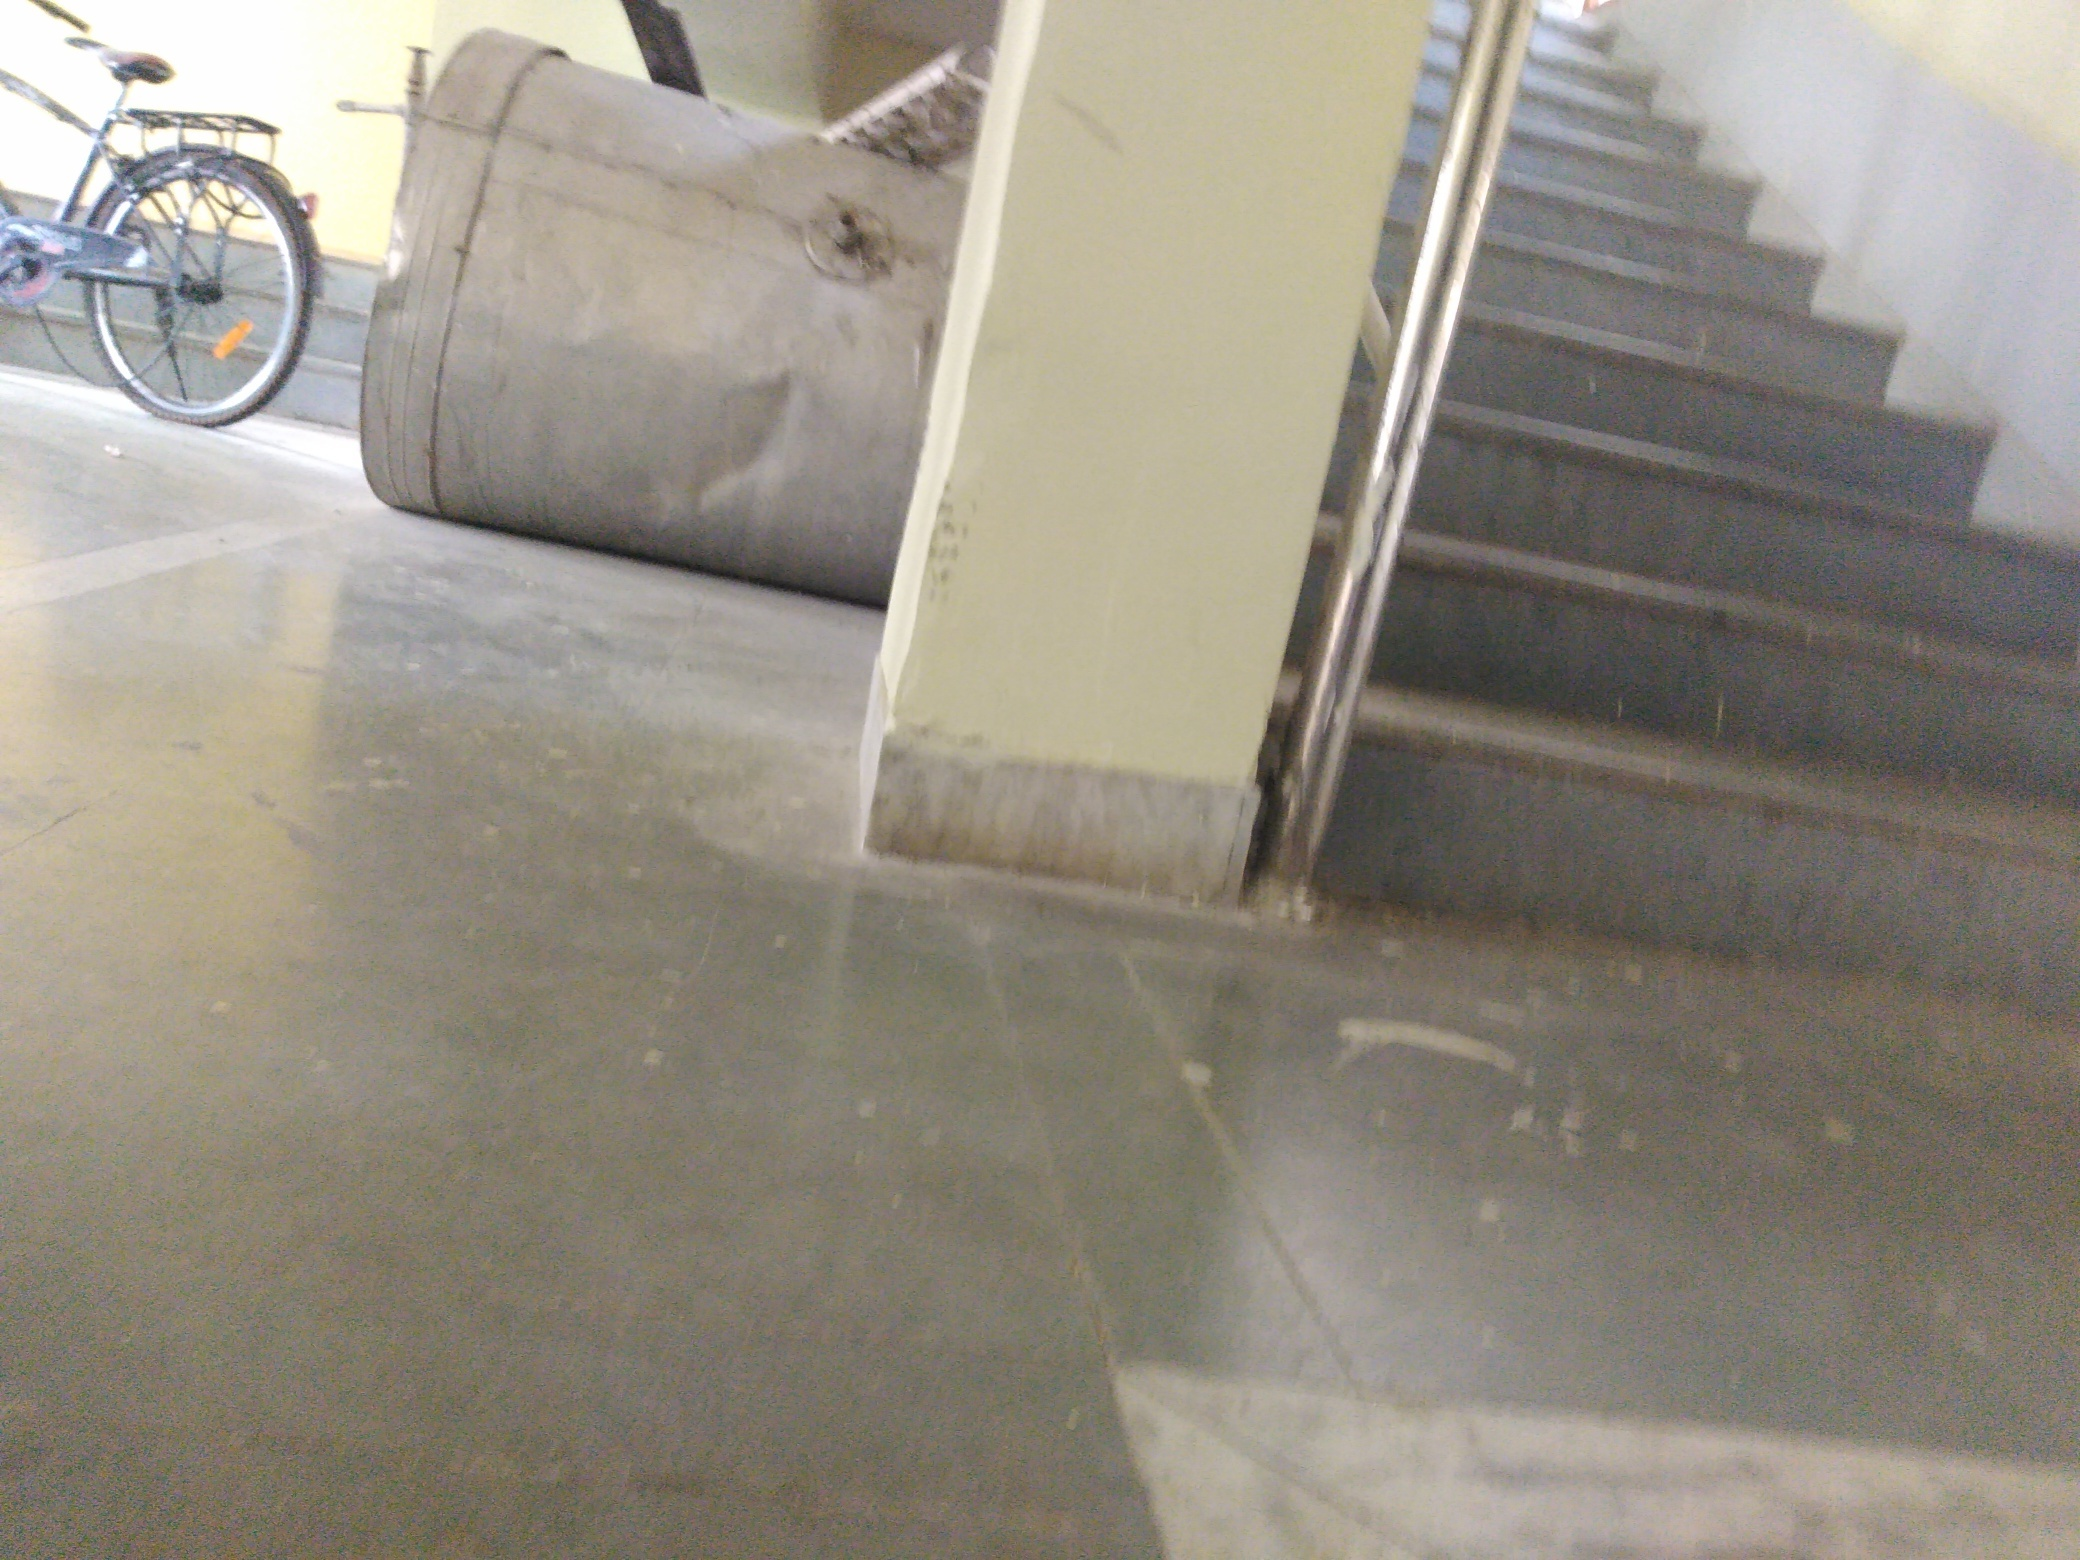stairs_up: (1354, 16, 2080, 977)
